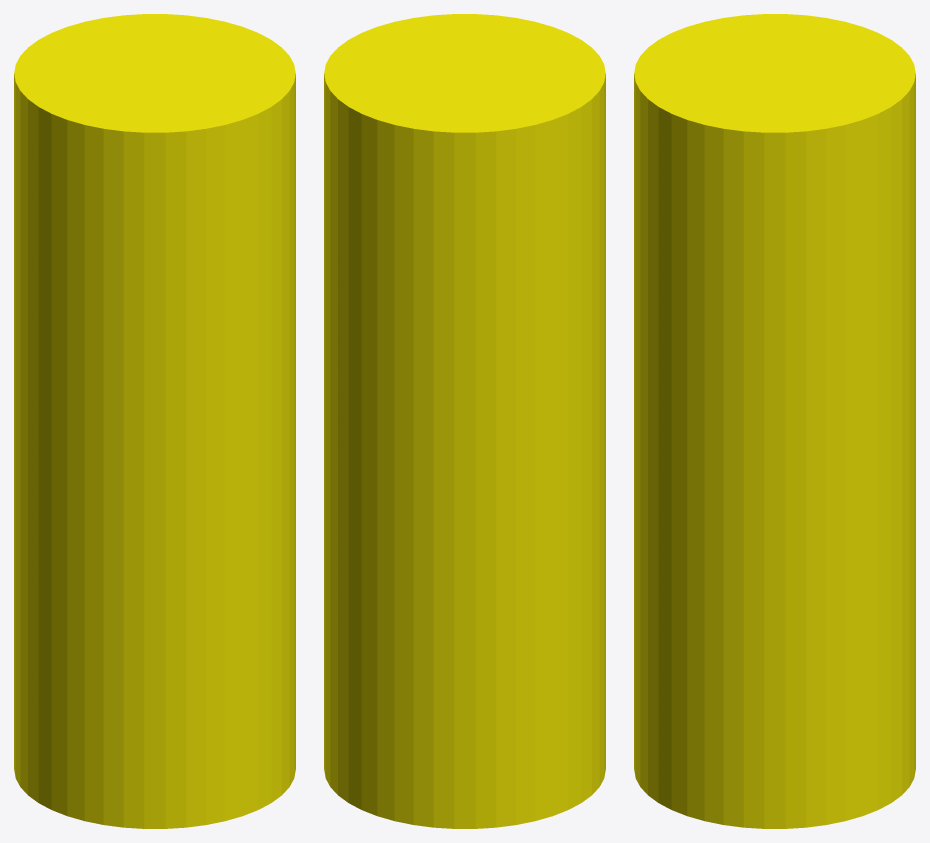
Rendered from furniture.dae.
The picture shows the model from 3 angles, left to right: view 1: azimuth 30°, elevation 25°; view 2: azimuth 150°, elevation 25°; view 3: azimuth 270°, elevation 25°; orthographic projection.
Visible parts, largest first — view 1: Furniture; view 2: Furniture; view 3: Furniture.
Part boxes in pixels (x1=…): Furniture: x1=14, y1=14, x2=295, y2=828; Furniture: x1=324, y1=14, x2=605, y2=828; Furniture: x1=634, y1=14, x2=915, y2=828.
Size of the model in its own units: 0.1097 by 0.11 by 0.3.
